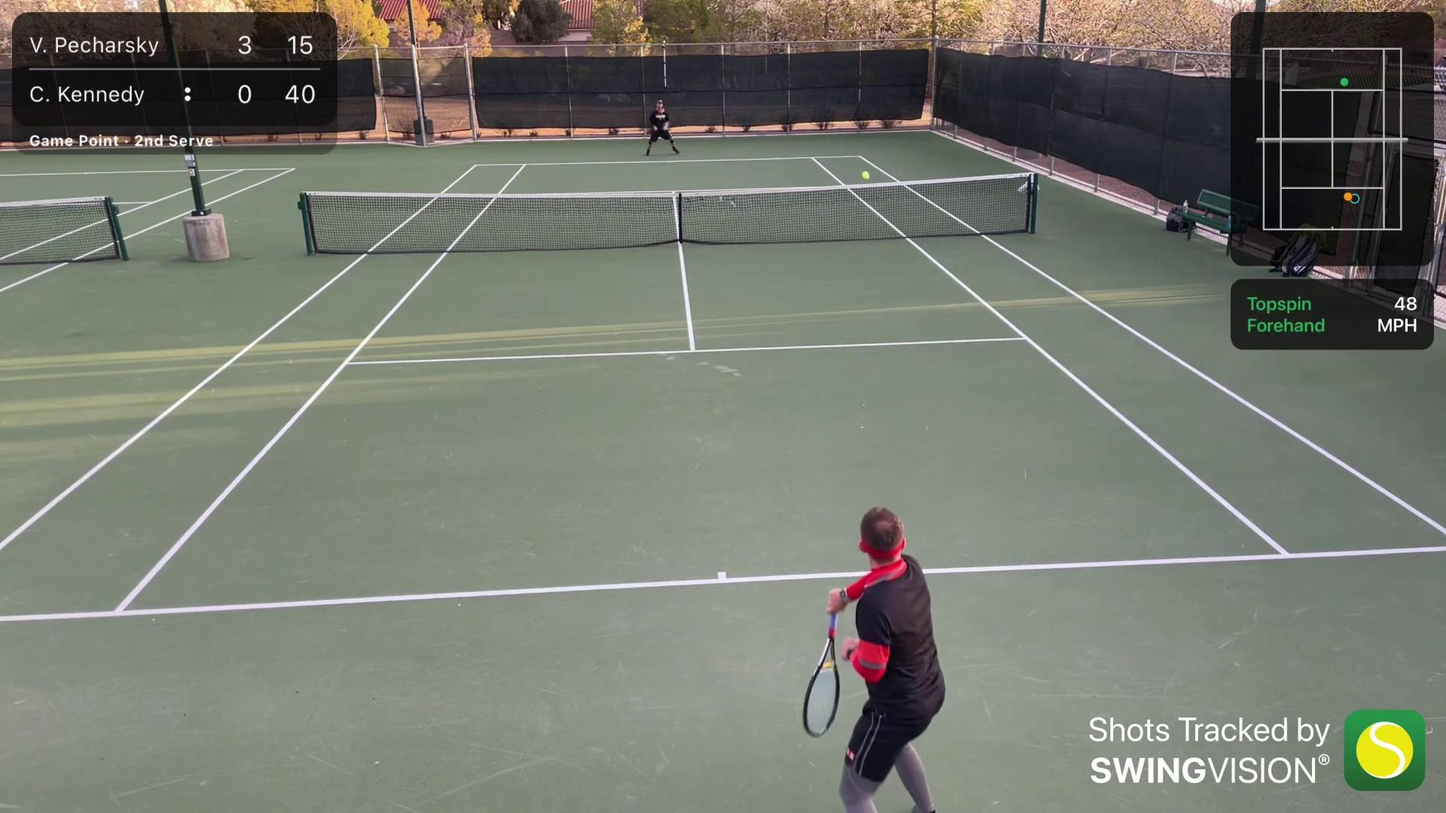ball: (859, 169, 872, 181)
